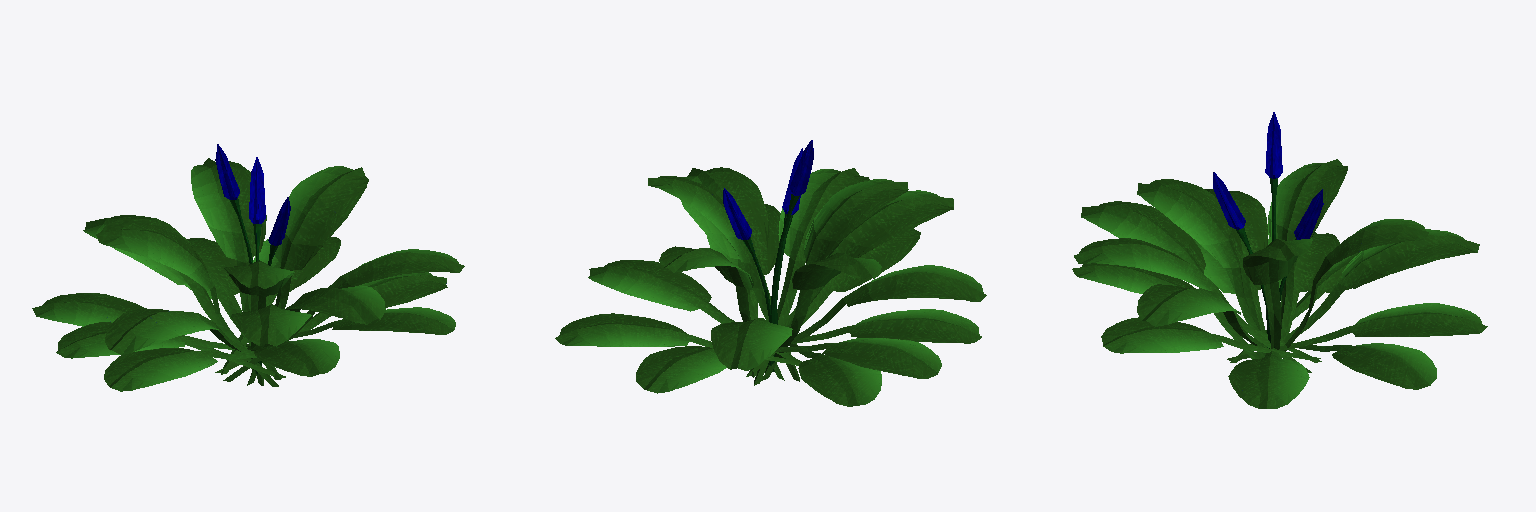
The picture shows the model from 3 angles: view 1: azimuth 30°, elevation 25°; view 2: azimuth 150°, elevation 25°; view 3: azimuth 270°, elevation 25°; orthographic projection.
Parts seen in each view (by area): view 1: Plane.002; view 2: Plane.002; view 3: Plane.002.
Boxes of the visible parts, <box> form: Plane.002: <box>32,144,464,391</box>; Plane.002: <box>555,140,986,406</box>; Plane.002: <box>1072,112,1487,408</box>.
Bounding box in the file's own units: 5.97 × 3.83 × 5.82.
1 materials, 1 textured.